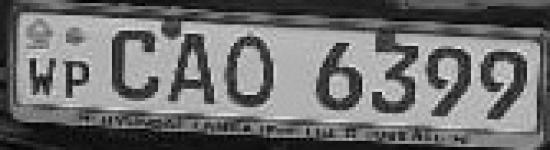0: (222, 29, 279, 113)
3: (369, 40, 422, 117)
6: (310, 38, 366, 114)
9: (477, 41, 532, 123), (424, 41, 477, 122)
A: (166, 29, 219, 109)
C: (104, 26, 164, 107)
P: (63, 54, 95, 103)
W: (24, 53, 61, 102)
